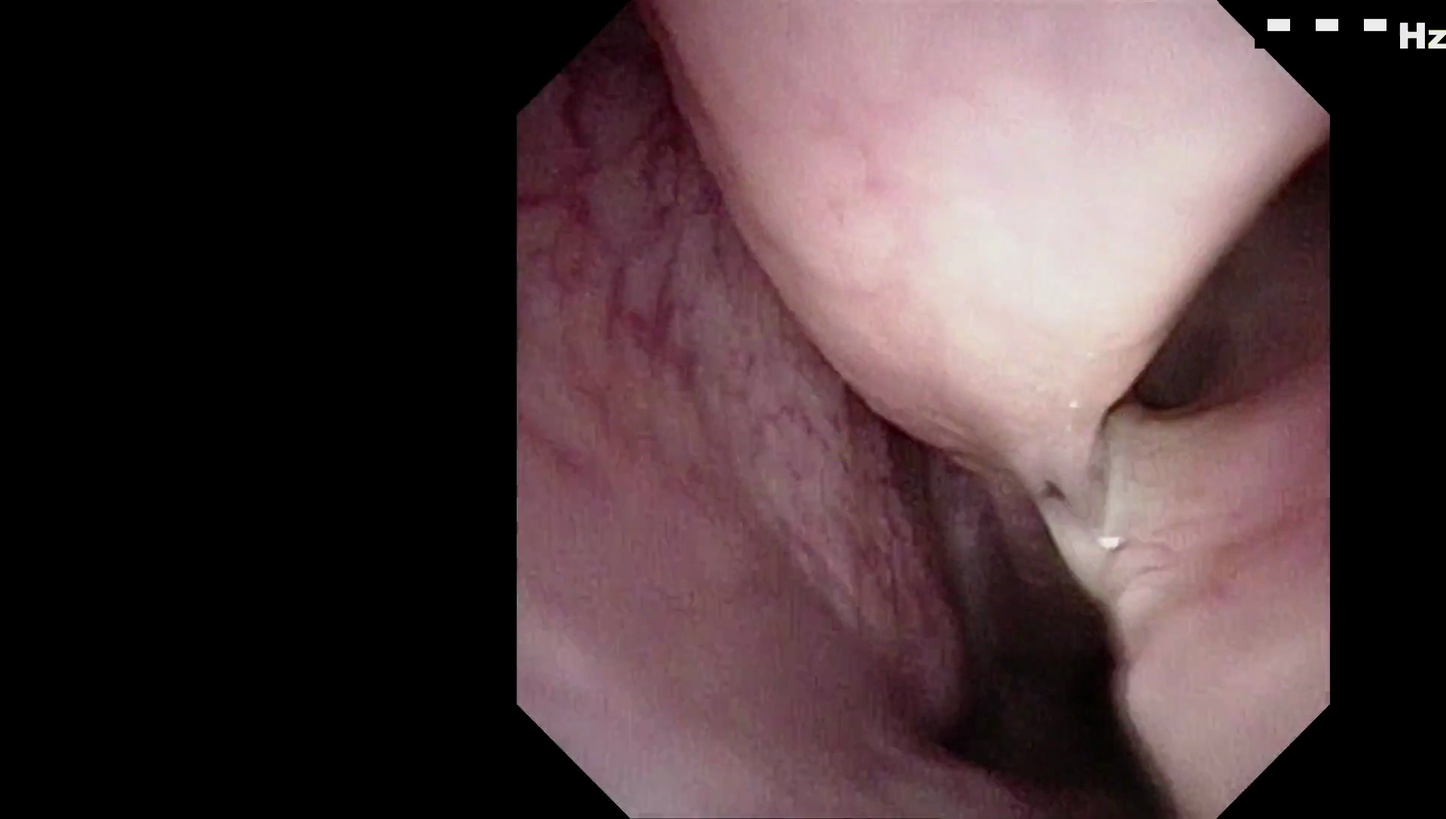next: (903, 535, 1174, 806)
